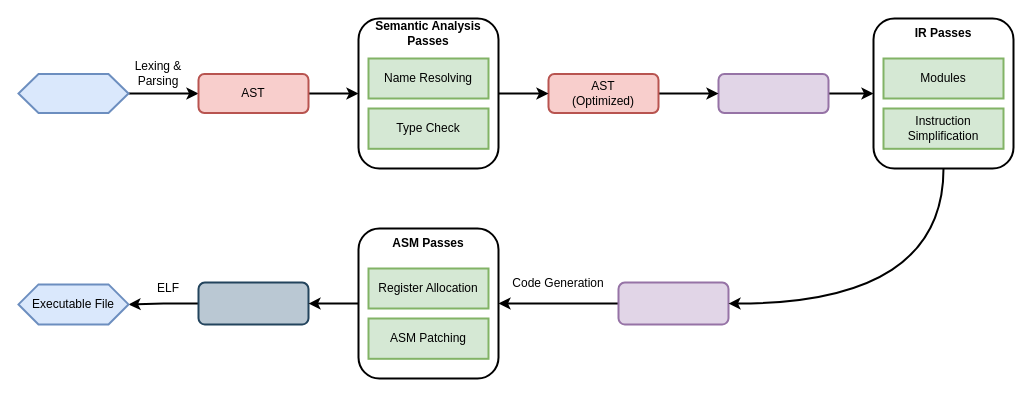
The diagram is 1031 pixels wide and 396 high, and some of its shapes have lost their labels. The shapes that lost their labels are listed below. From the top down, each one's centre as x and y in pixels, then its label:
[73,93]: Source Code
[773,93]: TAC IR
[253,303]: Machine Code
[673,303]: TAC IR (Optimized)
